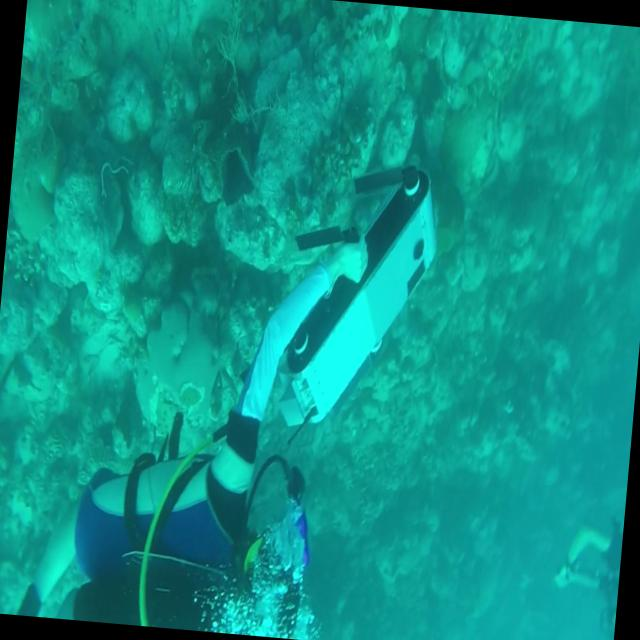human: (16, 198, 373, 640)
